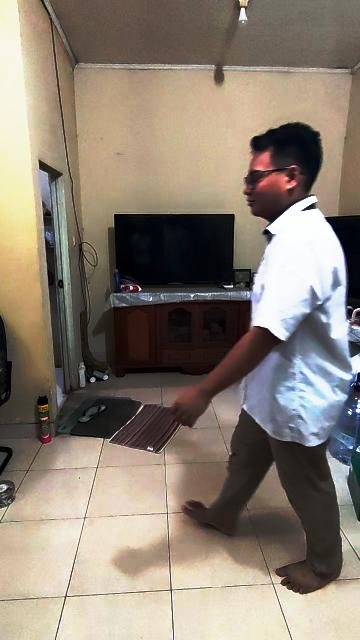berjalan: (158, 117, 350, 595)
